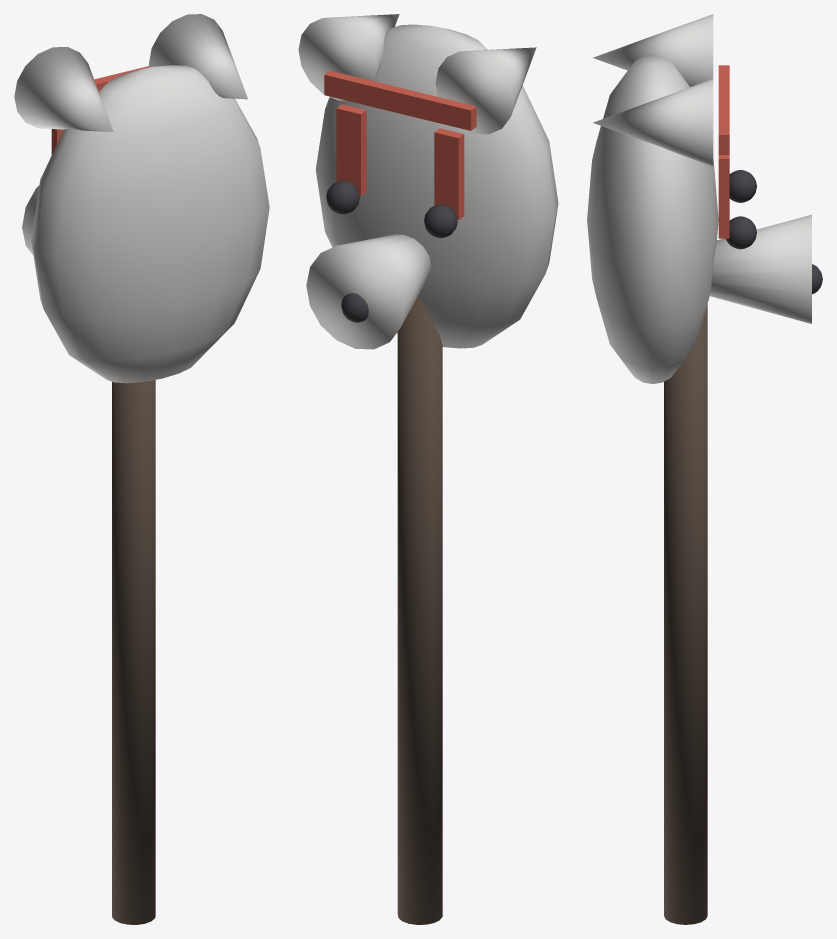
Rendered from prop_kitsune_men.glb.
3 views of the same model, side by side, from view 1: azimuth 30°, elevation 25°; view 2: azimuth 150°, elevation 25°; view 3: azimuth 270°, elevation 25° (orthographic). The views are drawn at different scales.
Visible parts, largest first — view 1: kitsune_men; view 2: kitsune_men; view 3: kitsune_men.
Boxes of the visible parts, x1,y1,x2,y2 form: kitsune_men: (14,14,269,924); kitsune_men: (298,14,558,924); kitsune_men: (587,14,822,924).
Bounding box in the file's own units: 0.48 × 1.74 × 0.43.
